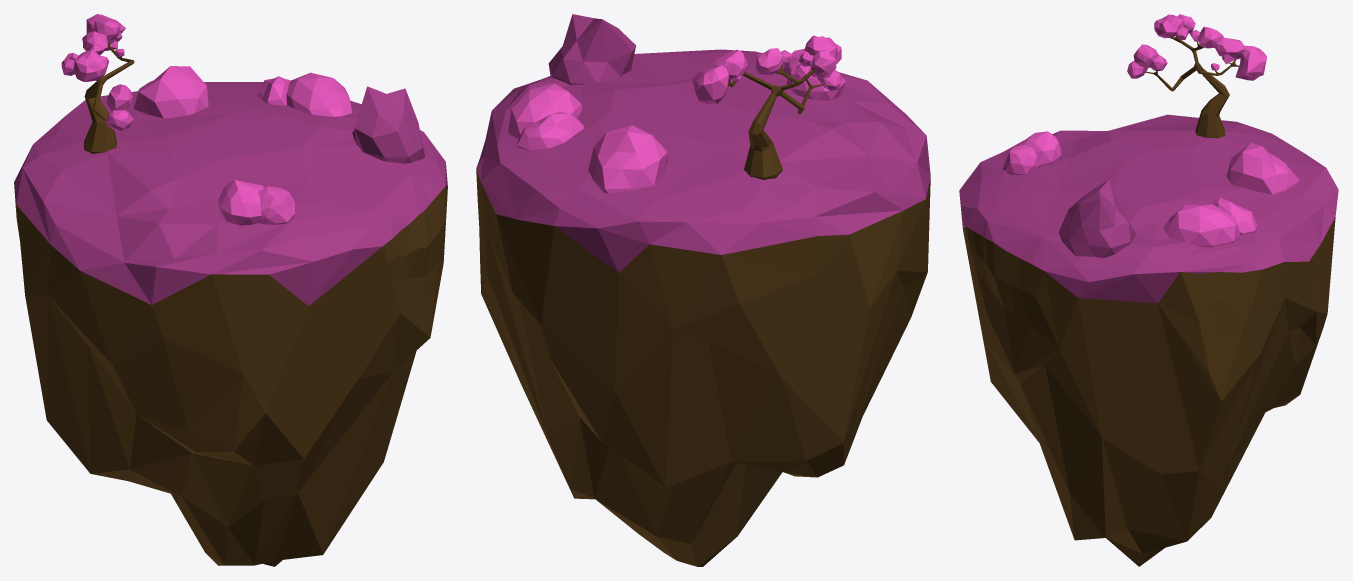
File: eiland.dae
The picture shows the model from 3 angles, left to right: view 1: azimuth 30°, elevation 25°; view 2: azimuth 150°, elevation 25°; view 3: azimuth 270°, elevation 25°; orthographic projection. The views are drawn at different scales.
Visible parts, largest first — view 1: Icosphere_004, Icosphere_006, Icosphere_001, Icosphere_000, Icosphere_002, Cube, Icosphere_003; view 2: Icosphere_004, Icosphere_006, Icosphere_001, Cube, Icosphere_002, Icosphere_003, Icosphere_000; view 3: Icosphere_004, Icosphere_006, Icosphere_002, Icosphere_001, Cube, Icosphere_000, Icosphere_003.
Boxes of the visible parts, x1=… form: Icosphere_004: x1=14, y1=82, x2=447, y2=566; Icosphere_006: x1=61, y1=14, x2=133, y2=131; Icosphere_001: x1=133, y1=66, x2=208, y2=118; Icosphere_000: x1=218, y1=179, x2=295, y2=225; Icosphere_002: x1=286, y1=72, x2=352, y2=116; Cube: x1=83, y1=40, x2=134, y2=153; Icosphere_003: x1=257, y1=76, x2=290, y2=105; Icosphere_004: x1=476, y1=14, x2=930, y2=566; Icosphere_006: x1=692, y1=35, x2=841, y2=104; Icosphere_001: x1=588, y1=125, x2=667, y2=193; Cube: x1=727, y1=64, x2=823, y2=179; Icosphere_002: x1=508, y1=83, x2=582, y2=138; Icosphere_003: x1=517, y1=111, x2=583, y2=150; Icosphere_000: x1=783, y1=48, x2=845, y2=100; Icosphere_004: x1=959, y1=114, x2=1338, y2=566; Icosphere_006: x1=1127, y1=14, x2=1266, y2=80; Icosphere_002: x1=1164, y1=204, x2=1240, y2=247; Icosphere_001: x1=1226, y1=142, x2=1299, y2=194; Cube: x1=1145, y1=36, x2=1238, y2=138; Icosphere_000: x1=1002, y1=131, x2=1061, y2=175; Icosphere_003: x1=1209, y1=197, x2=1257, y2=234.
Size of the model in its own units: 10.95 by 10.94 by 15.28.
